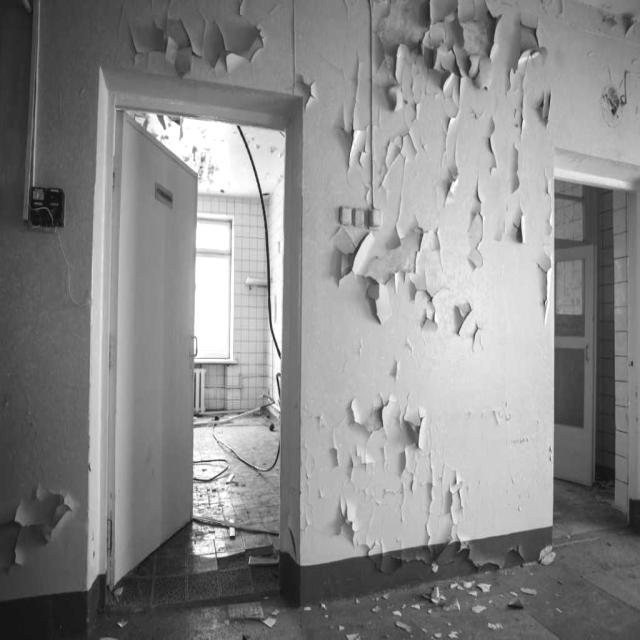peeling paint: (304, 4, 640, 596), (100, 0, 302, 127), (0, 444, 84, 590), (278, 468, 300, 582)
